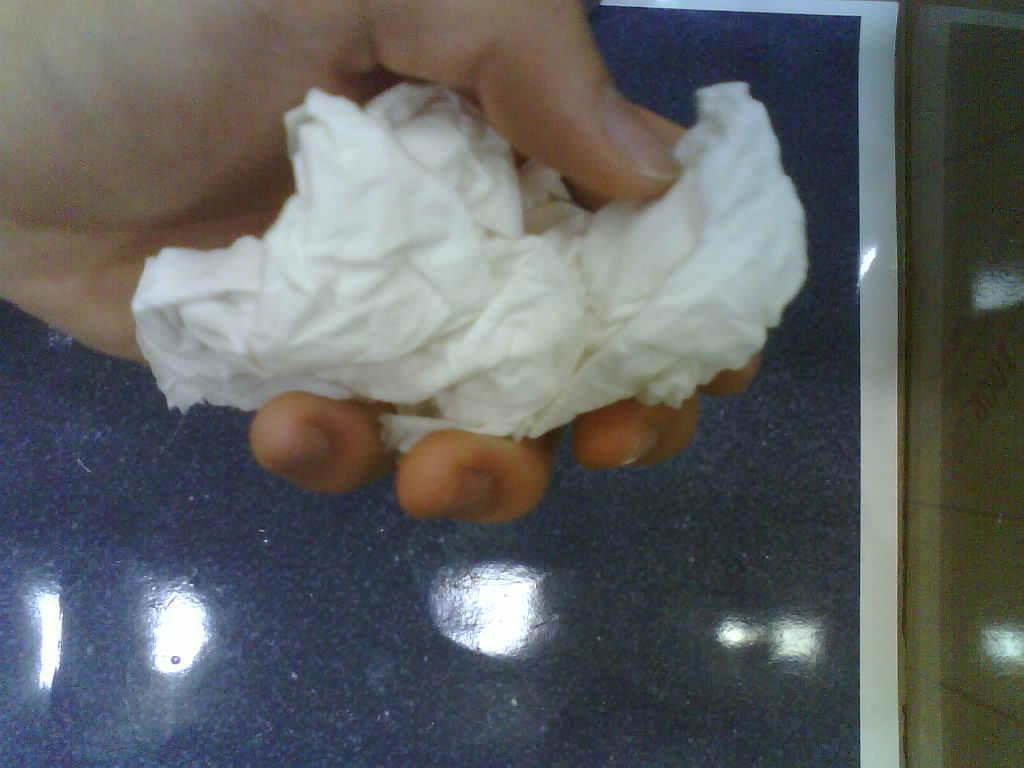paper: (134, 78, 806, 450)
